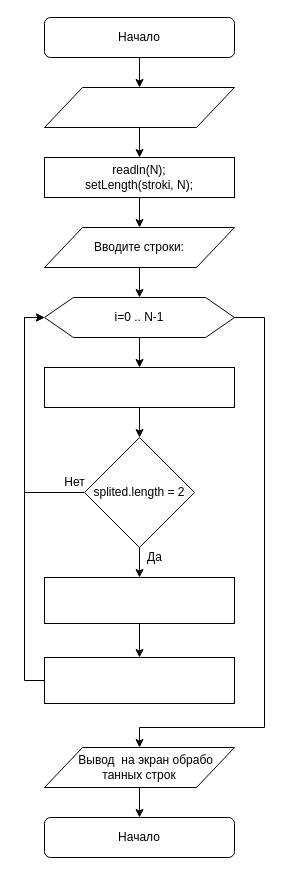
Some shapes in this 290 by 875 pixel diagram are drawn without their labels. The box of each missing label's shape, as (x1, y1, x2, y2) in pixels:
buffer := splited[0]; splited[0] := splited[1]; splited[1] := buffer;: (44, 576, 234, 624)
readln(stroki[i]); splited := stroki[i].split(' ');: (44, 366, 234, 408)
stroki[i] := splited[0] + ' ' + splited[1];: (44, 656, 234, 704)
Введите кол-во строк: (44, 86, 234, 128)
